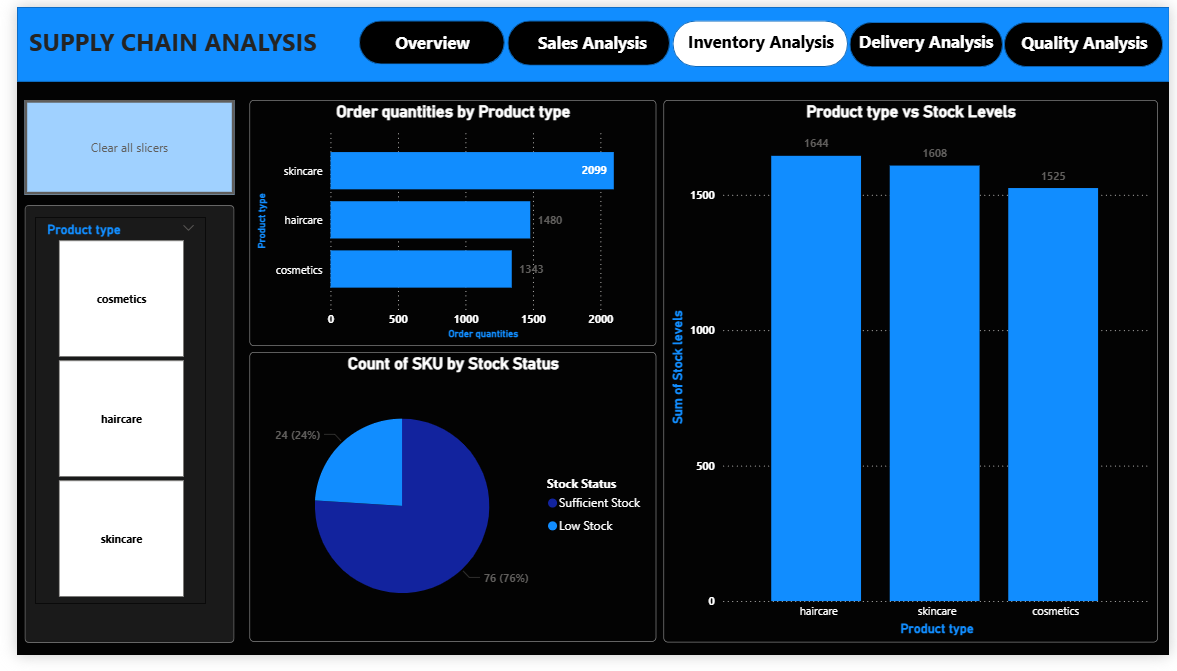

The page's visual inventory and layout, read from the dashboard file:
{"tool":"powerbi","page":{"name":"Inventory Analysis","canvas":[1280,720],"ordinal":2},"visuals":[{"type":"shape","box":[0,0,1280.6,83.1],"z":0},{"type":"textbox","box":[8.6,15.8,356.7,61.6],"z":1000},{"type":"shape","box":[379.6,15.8,161.9,48.7],"z":2000},{"type":"shape","box":[544.3,15.8,180.5,50.1],"z":3000},{"type":"shape","box":[728.3,15,195,51.7],"z":4000,"group":"g1"},{"type":"shape","box":[925.3,17.2,170.5,50.1],"z":5000,"group":"g2"},{"type":"shape","box":[1096.7,16.7,176.7,50],"z":6000,"group":"g3"},{"type":"actionButton","box":[8.3,103.3,233.3,105],"z":7000},{"type":"textbox","box":[399.6,21.5,123.2,38.7],"z":8000},{"type":"textbox","box":[568.7,21.5,141.8,38.7],"z":9000},{"type":"textbox","box":[733.3,20,186.7,41.7],"z":10000,"group":"g1"},{"type":"textbox","box":[923.3,20,173.3,38.3],"z":11000,"group":"g2"},{"type":"textbox","box":[1105,21.7,161.7,35],"z":12000,"group":"g3"},{"type":"shape","box":[8.3,220,233.3,486.7],"z":13000},{"type":"slicer","fields":{"Values":["supply_chain_data.Product type"]},"box":[20,234,190,430],"z":14000},{"type":"clusteredColumnChart","title":"Product type vs Stock Levels","fields":{"Category":["supply_chain_data.Product type"],"Y":["Sum(supply_chain_data.Stock levels)"]},"box":[719.1,103.6,549.1,602.7],"z":15000},{"type":"clusteredBarChart","fields":{"Category":["supply_chain_data.Product type"],"Y":["Sum(supply_chain_data.Order quantities)"]},"box":[258.2,103.6,451.8,273.6],"z":16000},{"type":"pieChart","fields":{"Category":["supply_chain_data.Stock Status"],"Y":["CountNonNull(supply_chain_data.SKU)"]},"box":[258,384,452,322],"z":17000},{"type":"group","id":"g1","title":"Group 1","box":[728.3,15,195,51.7],"z":17001},{"type":"group","id":"g2","title":"Group 2","box":[923.3,17.2,173.3,50.1],"z":17002},{"type":"group","id":"g3","title":"Group 3","box":[1096.7,16.7,176.7,50],"z":17003}]}

Visuals, with their boxes in screenshot pixels (x1, y1, x2, y2), scaled from the page's 1280x720 canvas onto the 1177x671 screenshot:
shape: (x1=0, y1=0, x2=1176, y2=77)
textbox: (x1=8, y1=15, x2=336, y2=72)
shape: (x1=349, y1=15, x2=498, y2=60)
shape: (x1=501, y1=15, x2=666, y2=61)
shape: (x1=670, y1=14, x2=849, y2=62)
shape: (x1=851, y1=16, x2=1008, y2=63)
shape: (x1=1008, y1=16, x2=1171, y2=62)
actionButton: (x1=8, y1=96, x2=222, y2=194)
textbox: (x1=367, y1=20, x2=481, y2=56)
textbox: (x1=523, y1=20, x2=653, y2=56)
textbox: (x1=674, y1=19, x2=846, y2=58)
textbox: (x1=849, y1=19, x2=1008, y2=54)
textbox: (x1=1016, y1=20, x2=1165, y2=53)
shape: (x1=8, y1=205, x2=222, y2=659)
slicer - supply_chain_data.Product type: (x1=18, y1=218, x2=193, y2=619)
"Product type vs Stock Levels" clusteredColumnChart: (x1=661, y1=97, x2=1166, y2=658)
clusteredBarChart - supply_chain_data.Product type x Sum(supply_chain_data.Order quantities): (x1=237, y1=97, x2=653, y2=352)
pieChart - supply_chain_data.Stock Status x CountNonNull(supply_chain_data.SKU): (x1=237, y1=358, x2=653, y2=658)
"Group 1" group: (x1=670, y1=14, x2=849, y2=62)
"Group 2" group: (x1=849, y1=16, x2=1008, y2=63)
"Group 3" group: (x1=1008, y1=16, x2=1171, y2=62)
